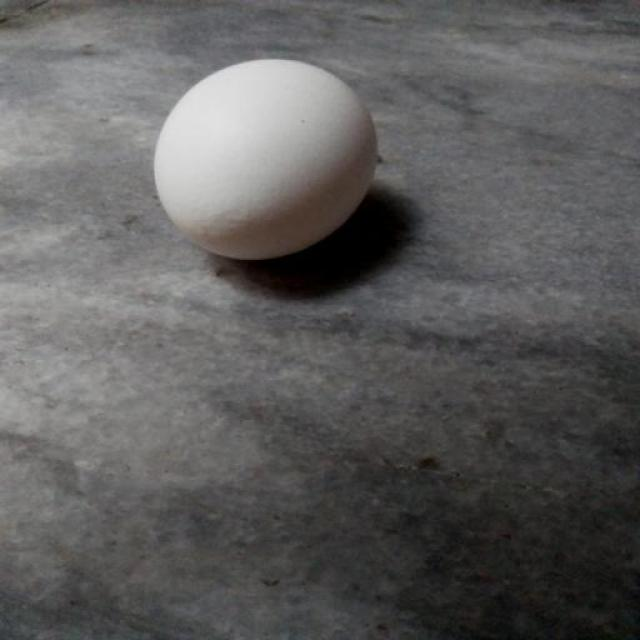telur: (155, 59, 372, 258)
